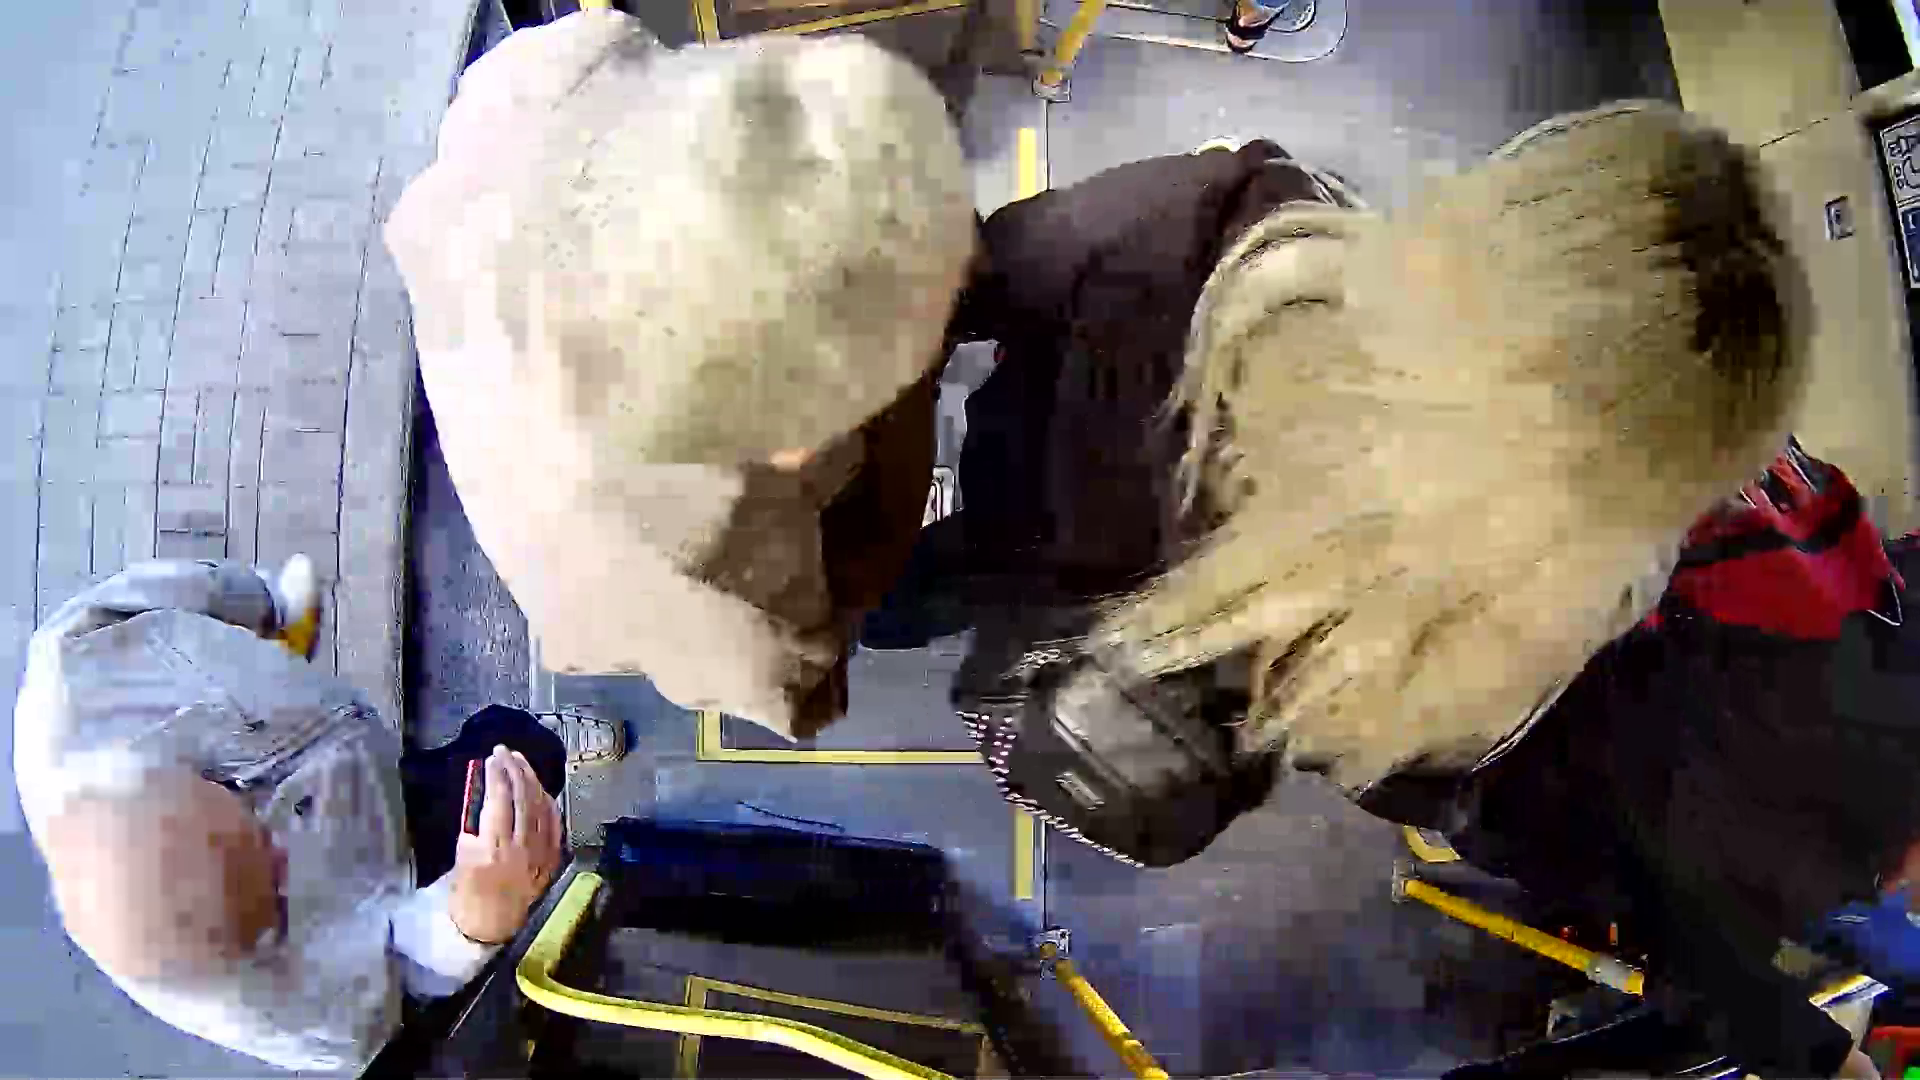person: (1066, 79, 1768, 797), (429, 36, 1041, 658), (55, 569, 657, 1033)
